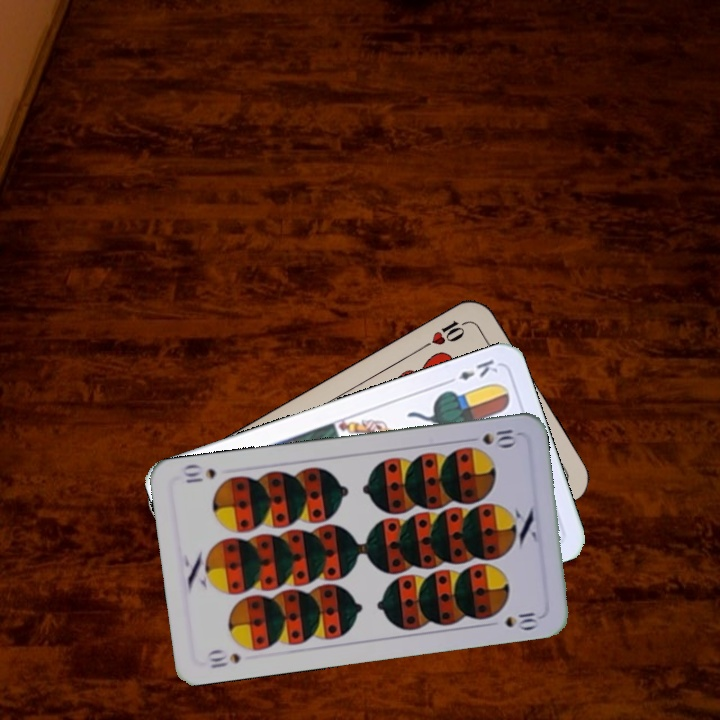EK: (442, 355, 501, 387)
H10: (418, 316, 473, 352)
S10: (462, 425, 521, 449), (203, 646, 243, 671)
